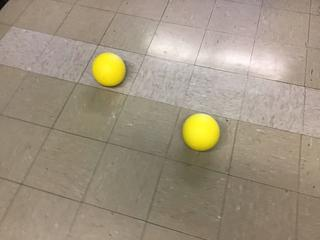power_cell: (180, 111, 222, 153), (92, 52, 128, 89)
